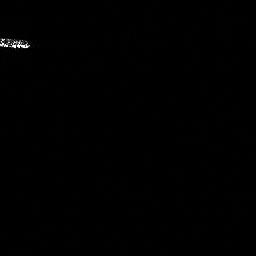ship: (1, 37, 31, 49)
